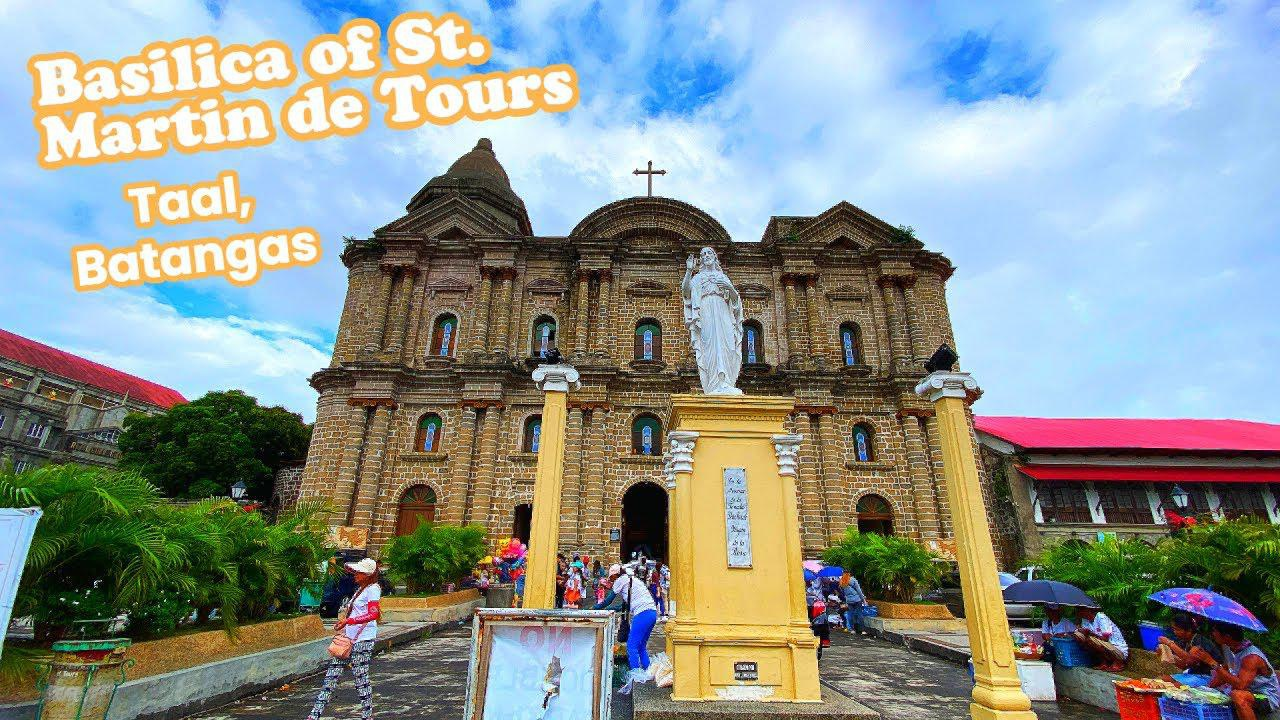taal_basilica_church_taal_batangas: (291, 116, 1010, 606)
